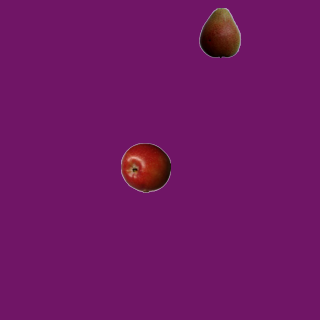Apple Braeburn: (120, 142, 170, 192)
Pear Forelle: (194, 7, 244, 57)
